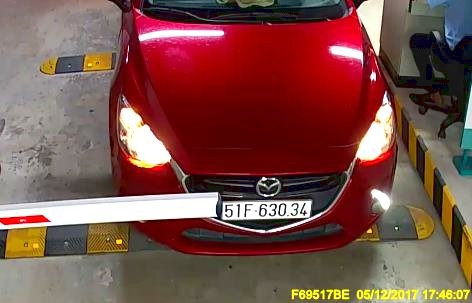plate: (221, 196, 315, 221)
